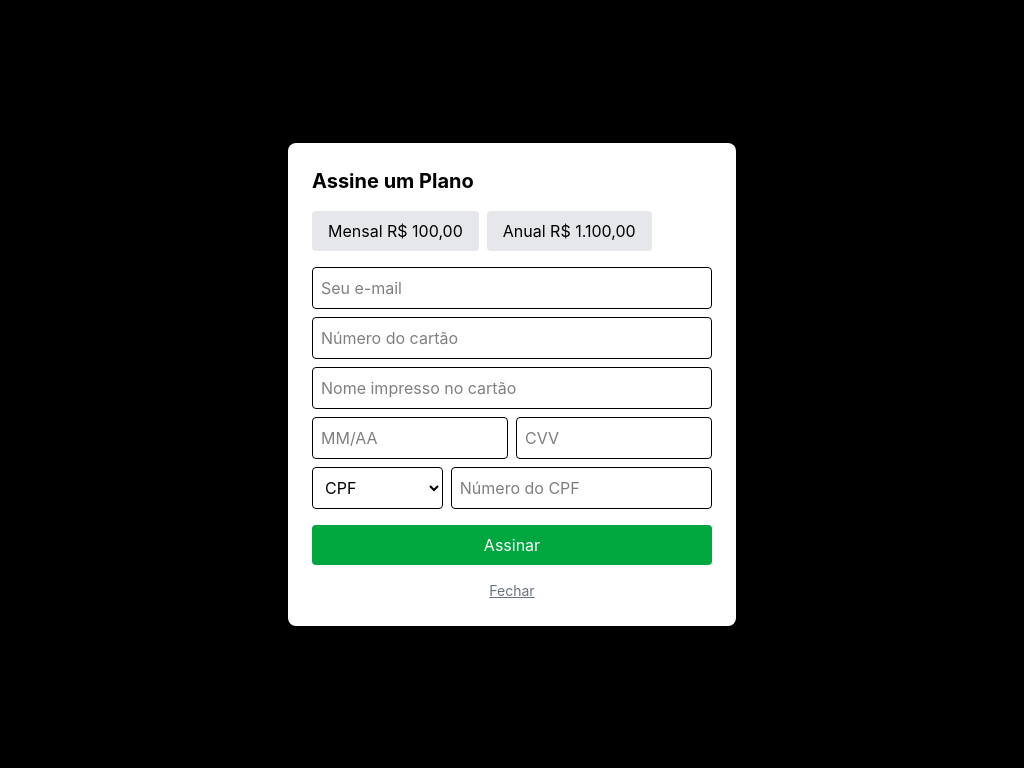
Scenario: SubscriptionModal › exibe mensagem de erro do backend
The image size is (1024, 768).
Click the button "Mensal R$ 100,00".
click(395, 230)  # box [312,210,479,250]
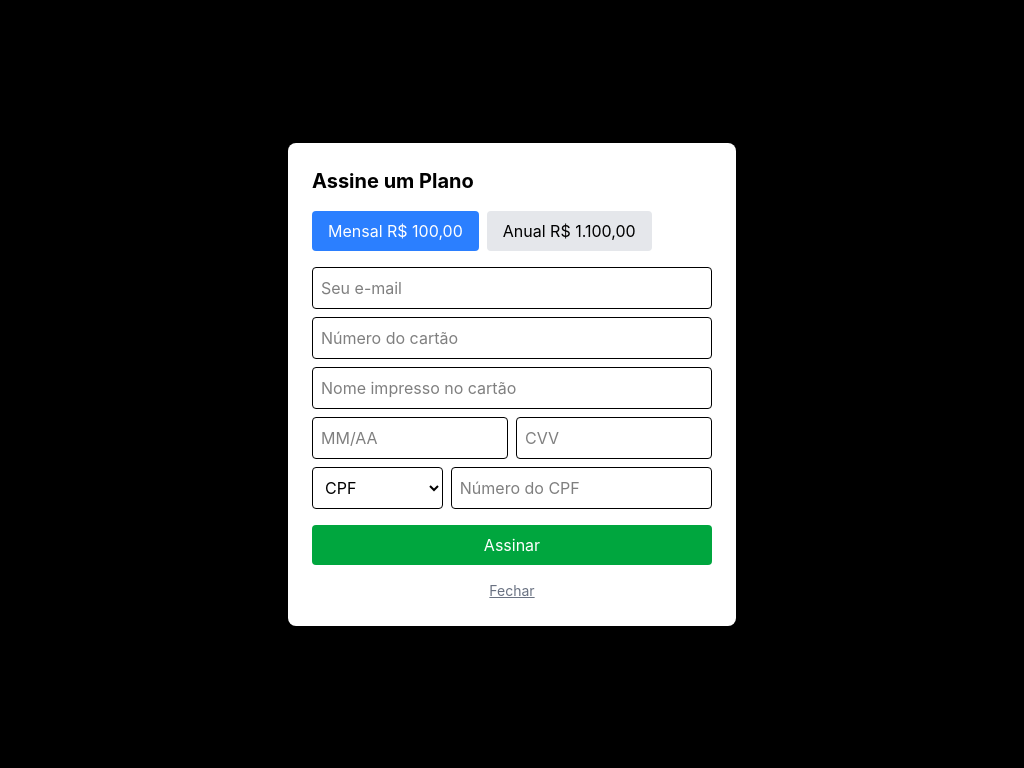
Type "user@email.com" into the field with placeholder "Seu e-mail".
click(512, 288); type("user@email.com")  # box [312,266,712,308]
Type "4111111111111111" into the field with placeholder "Número do cartão".
click(512, 338); type("4111111111111111")  # box [312,316,712,358]
Type "Test User" into the field with placeholder "Nome impresso no cartão".
click(512, 388); type("Test User")  # box [312,366,712,408]
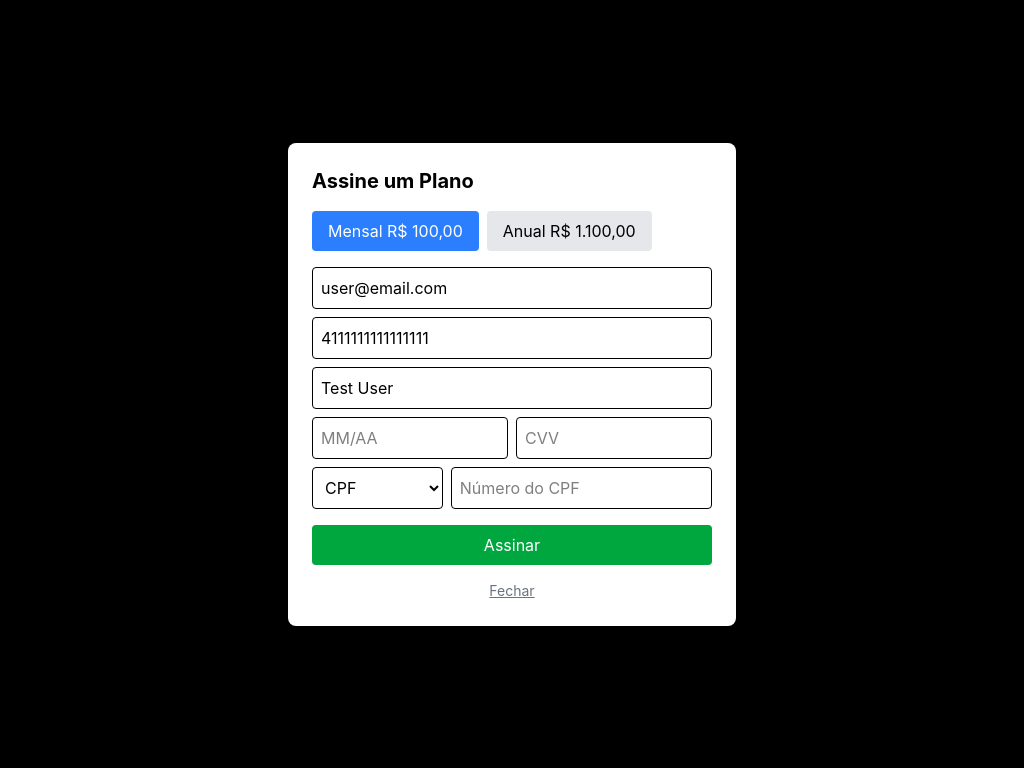
Type "12/30" into the field with placeholder "MM/AA".
click(410, 438); type("12/30")  # box [312,416,508,458]
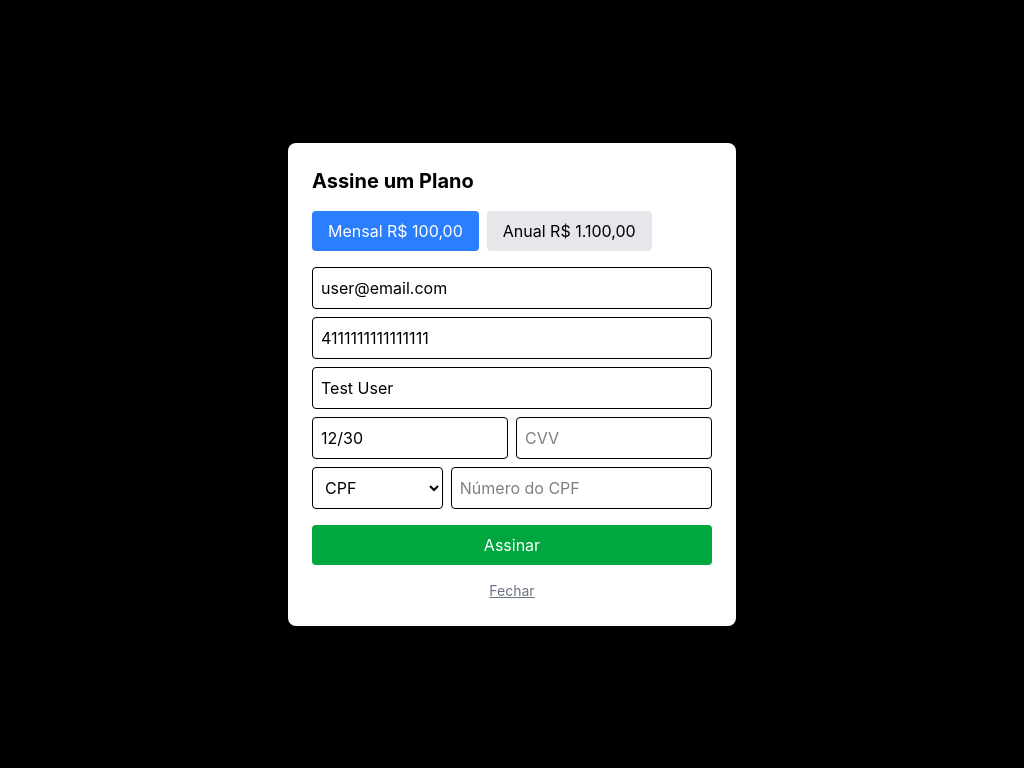
Type "123" into the field with placeholder "CVV".
click(614, 438); type("123")  # box [516,416,712,458]
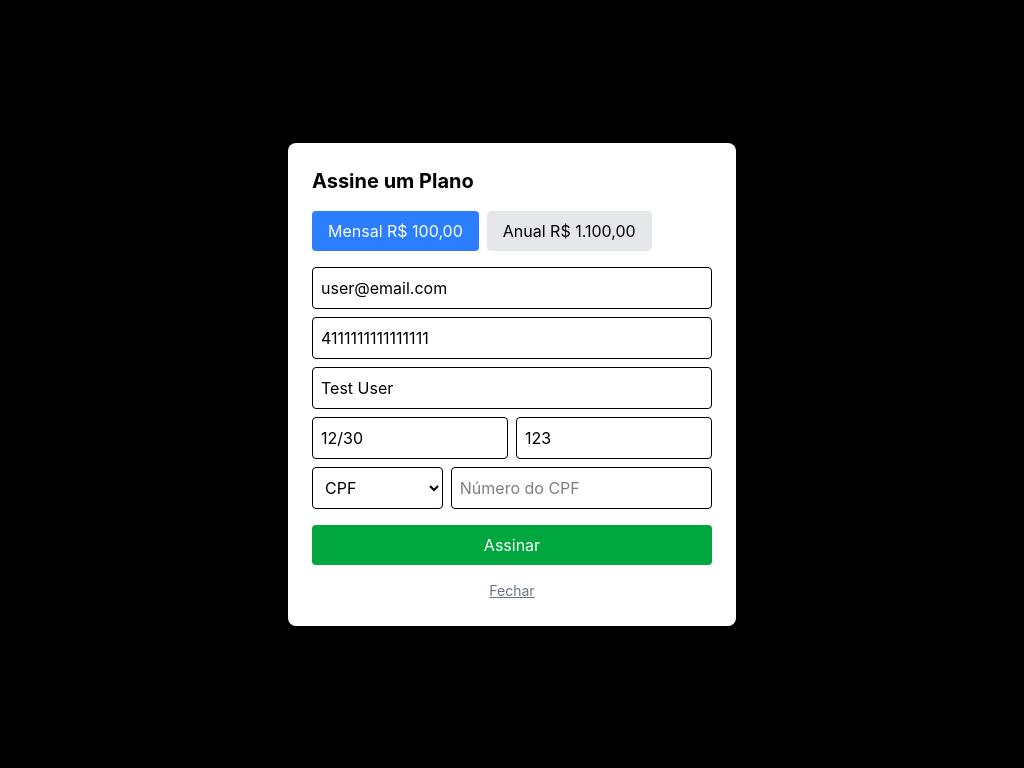
Type "123.456.789-09" into the field with placeholder "Número do CPF".
click(581, 488); type("123.456.789-09")  # box [451,466,712,508]
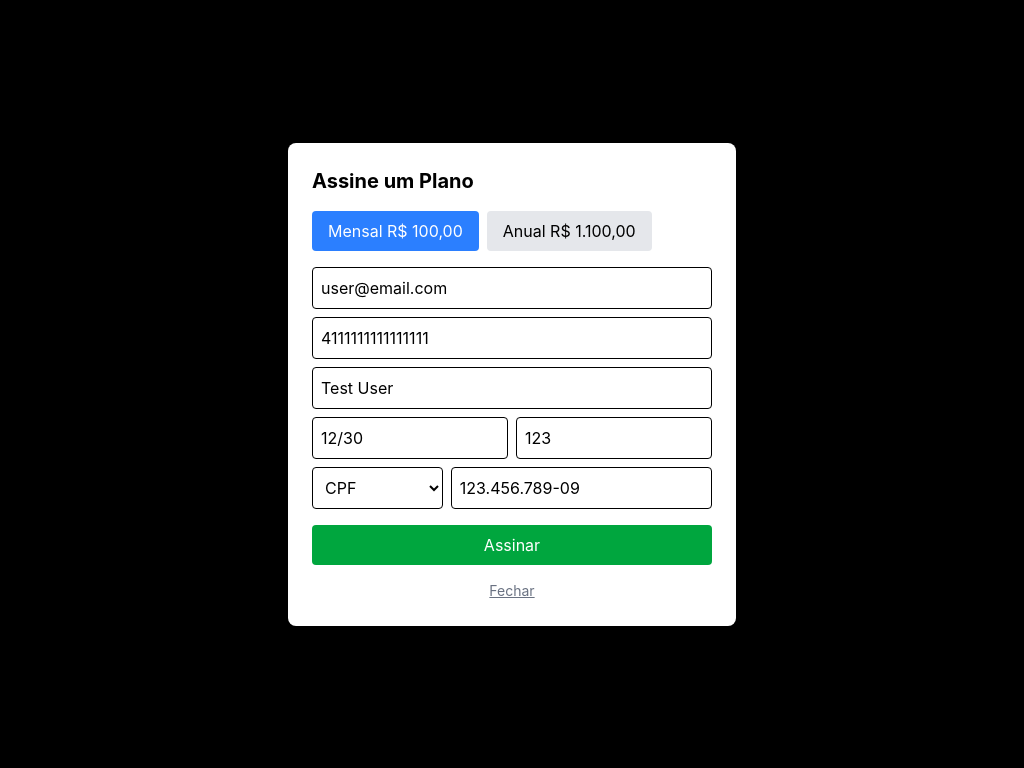
Click the button "Assinar".
click(512, 544)  # box [312,524,712,564]
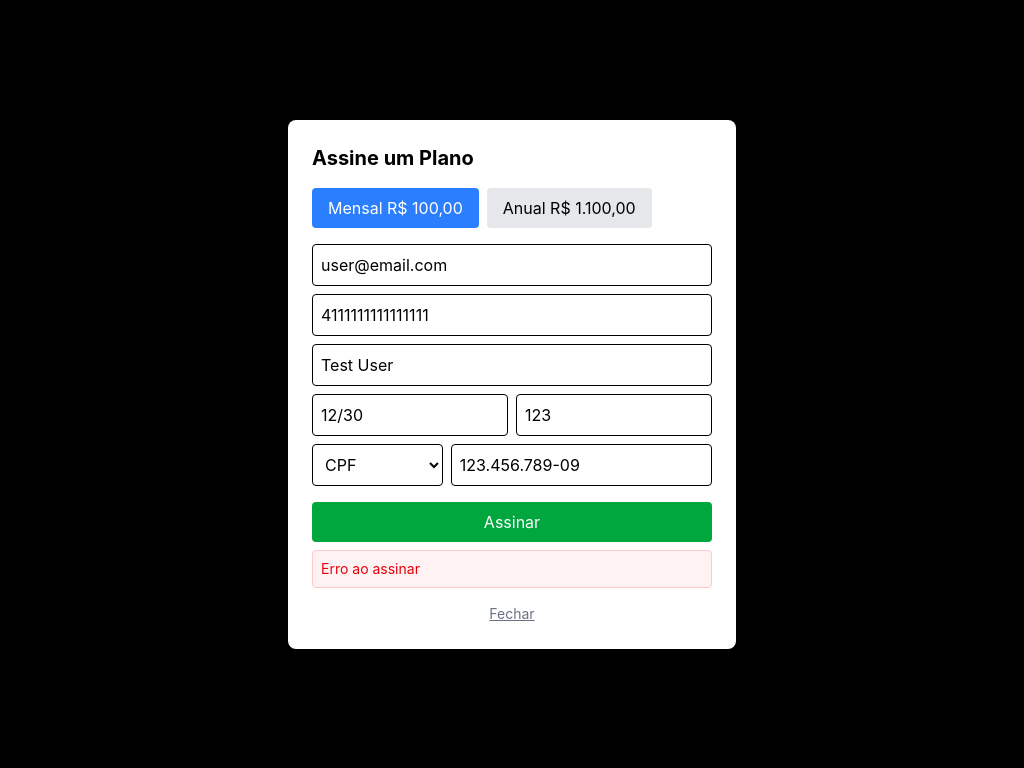
Check: the text "Erro ao assinar" is shown, box [312,550,712,588]
